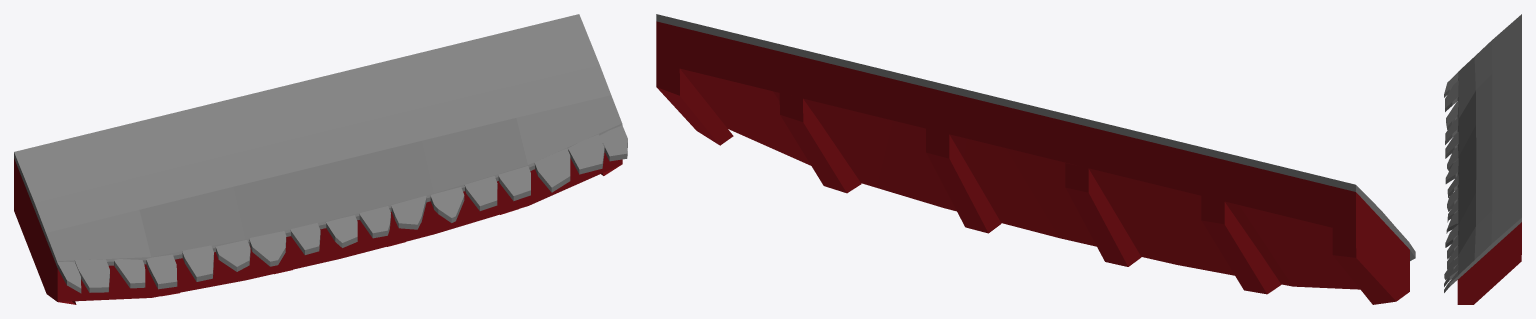
Rendered from SM_MH_01_Slate_Roof_End_02.fbx.
The picture shows the model from 3 angles, left to right: view 1: azimuth 30°, elevation 25°; view 2: azimuth 150°, elevation 25°; view 3: azimuth 270°, elevation 25°; orthographic projection. The views are drawn at different scales.
Visible parts, largest first — view 1: SM_MH_01_Slate_Roof_End_02_LOD0; view 2: SM_MH_01_Slate_Roof_End_02_LOD0; view 3: SM_MH_01_Slate_Roof_End_02_LOD0.
Part boxes in pixels (box(x1,y1,x2,y2)): SM_MH_01_Slate_Roof_End_02_LOD0: box(14, 14, 627, 304); SM_MH_01_Slate_Roof_End_02_LOD0: box(656, 14, 1415, 304); SM_MH_01_Slate_Roof_End_02_LOD0: box(1444, 14, 1521, 304).
Size of what is drawn, in the model's own units: 300 by 73.08 by 48.46.
